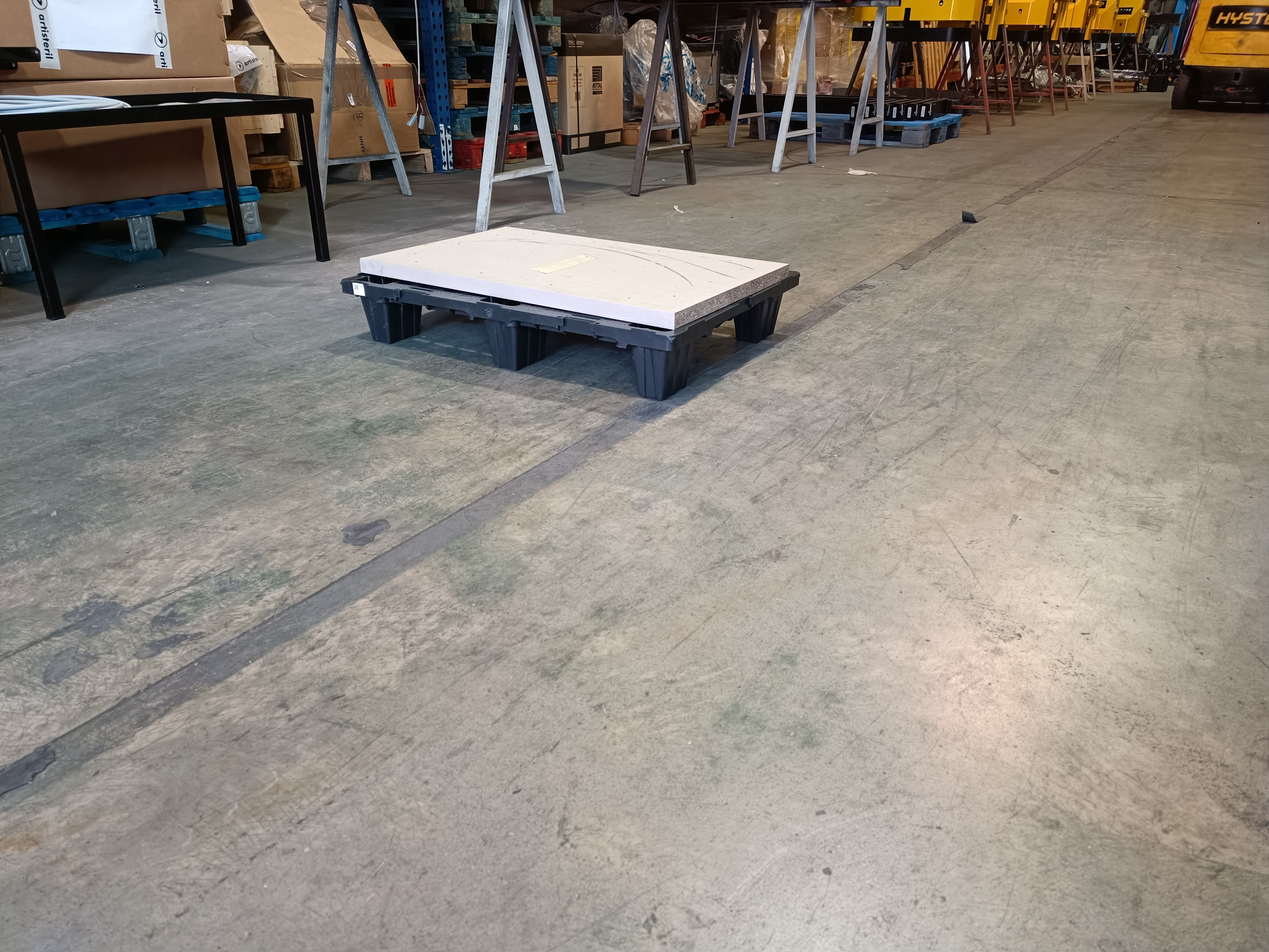block: (634, 343, 707, 401), (476, 321, 551, 374), (355, 302, 420, 348), (730, 293, 783, 348)
front: (348, 285, 673, 417)
hole pallet: (522, 326, 638, 390), (396, 299, 494, 364)
